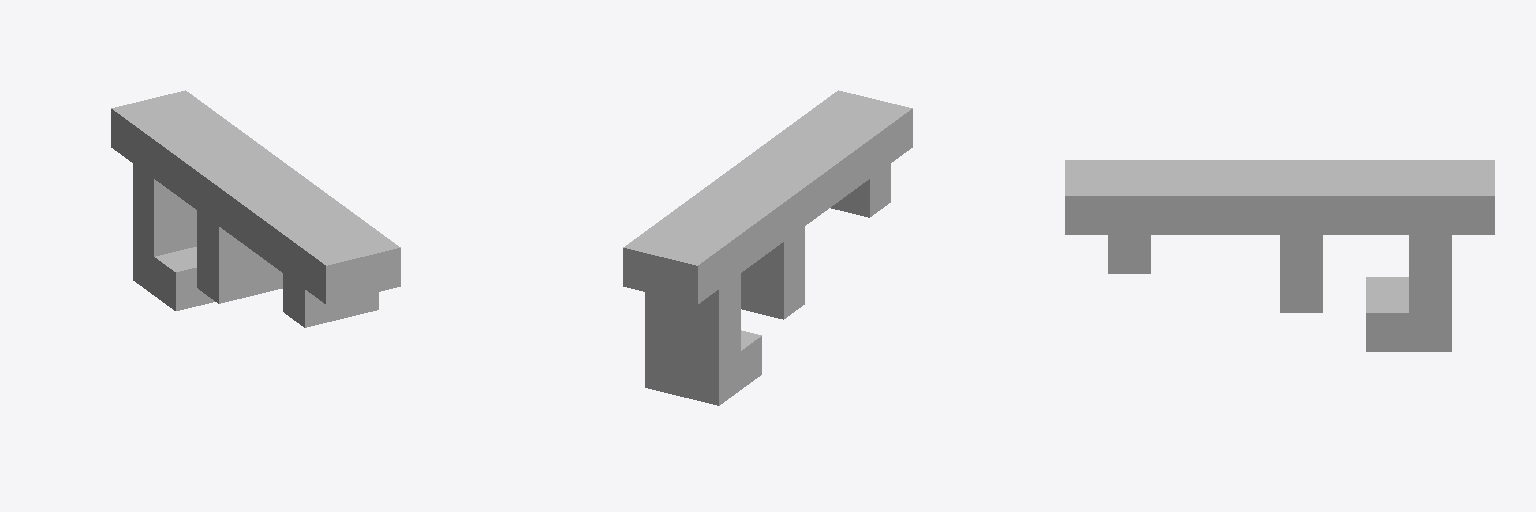
Rendered from broń.obj.
3 renders of one model, left to right at view 1: azimuth 30°, elevation 25°; view 2: azimuth 150°, elevation 25°; view 3: azimuth 270°, elevation 25°, orthographic.
Bounding box in the file's own units: 2 × 4 × 10.